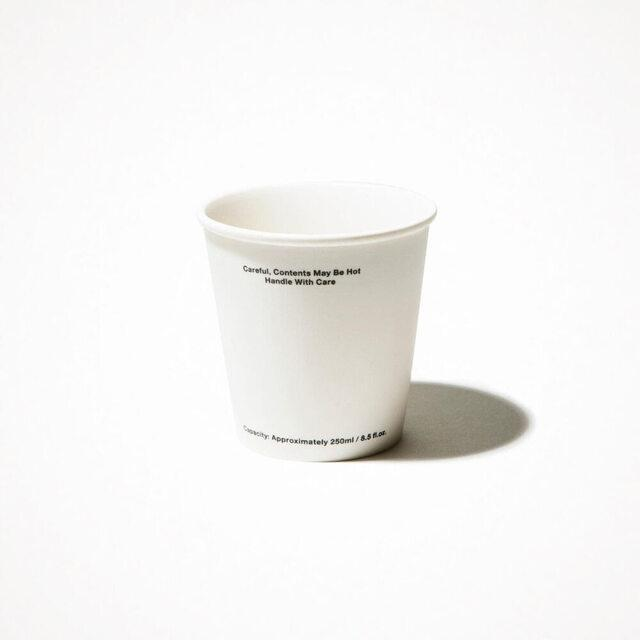trash: (195, 180, 452, 474)
